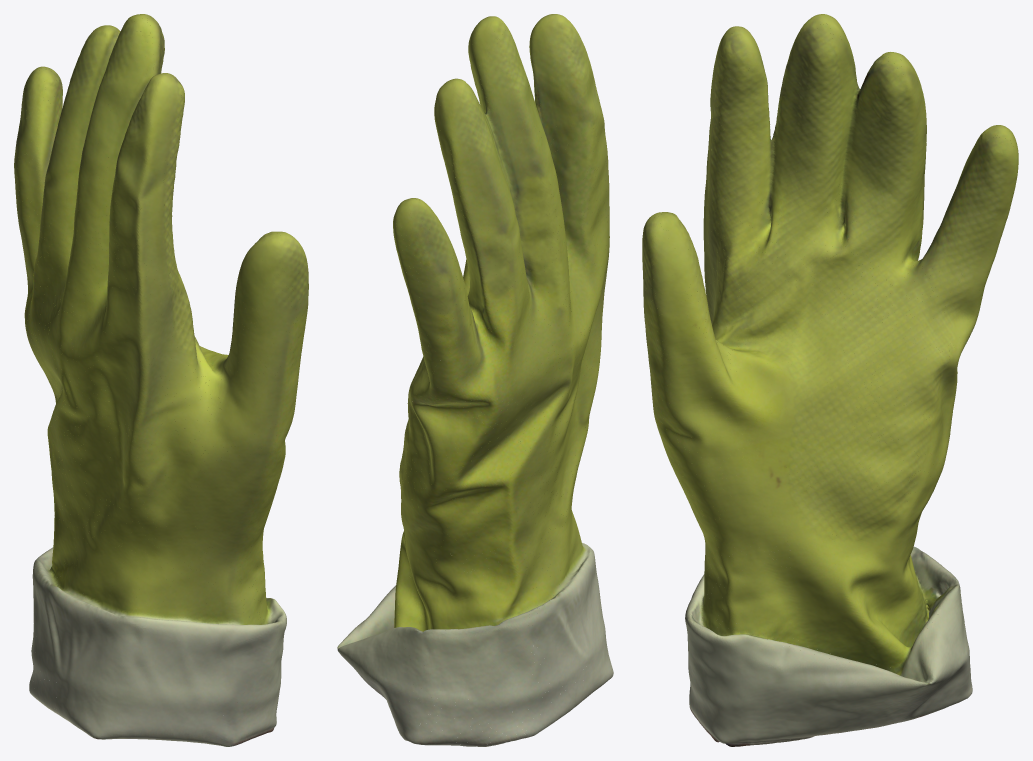
File: rolled-glove.glb
The picture shows the model from 3 angles, left to right: view 1: azimuth 30°, elevation 25°; view 2: azimuth 150°, elevation 25°; view 3: azimuth 270°, elevation 25°; orthographic projection.
Visible parts, largest first — view 1: Object_7, Object_6, Object_2, Object_8, Object_5, Object_9, Object_3, Object_4; view 2: Object_8, Object_6, Object_2, Object_7, Object_9, Object_3, Object_5, Object_4; view 3: Object_4, Object_5, Object_3, Object_9, Object_2, Object_6, Object_8, Object_7.
Boxes of the visible parts, x1,y1,x2,y2 form: Object_7: (14, 67, 294, 614); Object_6: (14, 14, 299, 552); Object_2: (29, 547, 285, 746); Object_8: (14, 14, 298, 611); Object_5: (15, 168, 308, 624); Object_9: (46, 22, 308, 624); Object_3: (29, 89, 286, 746); Object_4: (48, 29, 308, 365); Object_8: (395, 16, 601, 619); Object_6: (395, 14, 609, 577); Object_2: (338, 512, 613, 746); Object_7: (396, 123, 609, 614); Object_9: (394, 30, 604, 630); Object_3: (337, 259, 592, 746); Object_5: (400, 243, 557, 553); Object_4: (393, 14, 549, 420); Object_4: (644, 31, 1018, 446); Object_5: (644, 170, 994, 670); Object_3: (655, 47, 972, 746); Object_9: (643, 23, 974, 669); Object_2: (685, 546, 964, 697); Object_6: (642, 14, 1018, 434); Object_8: (642, 14, 1018, 384); Object_7: (642, 125, 1017, 412).
Bounding box in the file's own units: 68.23 × 231 × 114.
Materials: 1 (1 with a texture image).
